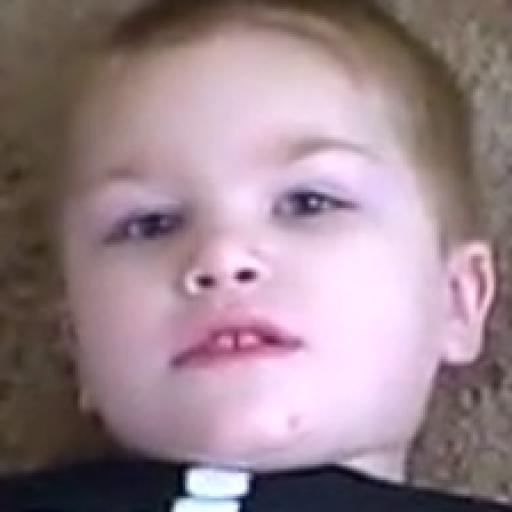Autism: (37, 14, 504, 474)
